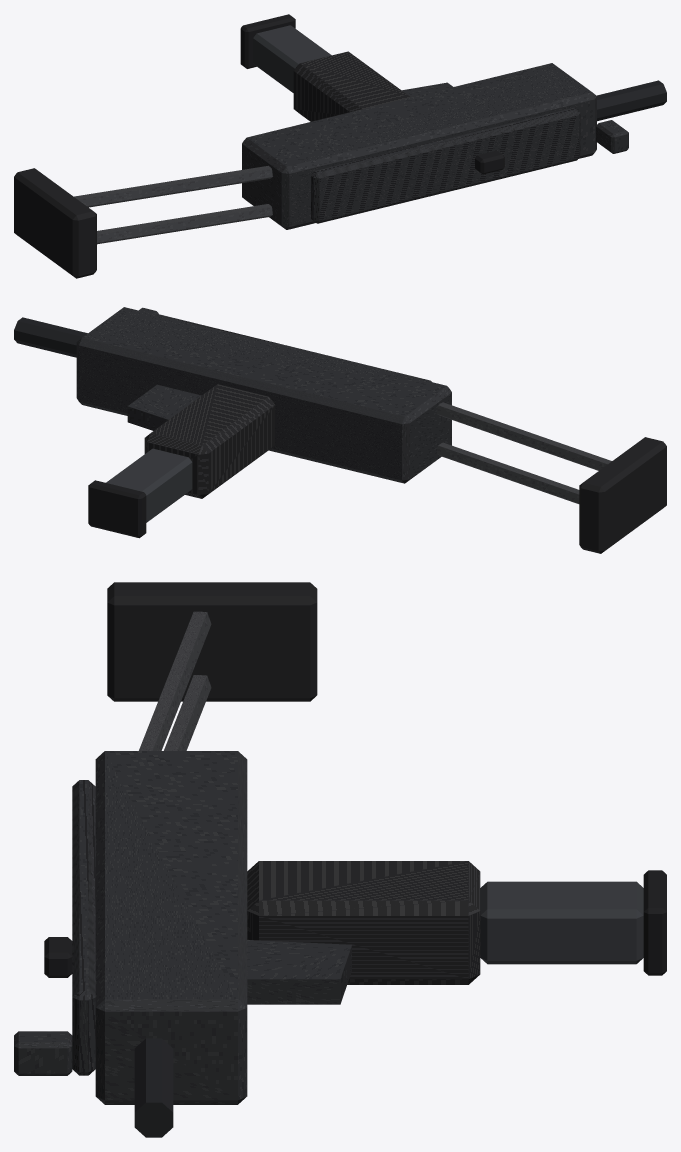
File: uzi.glb
The picture shows the model from 3 angles, top to bottom: view 1: azimuth 30°, elevation 25°; view 2: azimuth 150°, elevation 25°; view 3: azimuth 270°, elevation 25°; orthographic projection. The views are drawn at different scales.
Visible parts, largest first — view 1: block_receiver, block_topcover, block_buttplate, block_grip, block_magazine, block_strut-0.015, block_strut0.015, block_barrel, block_magbase, block_frontsight, block_cocking; view 2: block_receiver, block_grip, block_buttplate, block_magazine, block_magbase, block_strut-0.015, block_strut0.015, block_triggerguard, block_barrel, block_topcover; view 3: block_receiver, block_grip, block_buttplate, block_magazine, block_topcover, block_triggerguard, block_barrel, block_strut-0.015, block_frontsight, block_magbase, block_strut0.015, block_cocking.
Boxes of the visible parts, box(x1,y1,x2,y2) form: block_receiver: box(242, 63, 596, 229); block_topcover: box(311, 108, 580, 223); block_buttplate: box(14, 168, 96, 278); block_grip: box(293, 51, 410, 121); block_magazine: box(253, 25, 331, 92); block_strut-0.015: box(74, 165, 272, 207); block_strut0.015: box(97, 204, 272, 244); block_barrel: box(597, 80, 666, 121); block_magbase: box(240, 14, 295, 68); block_frontsight: box(596, 120, 628, 153); block_cocking: box(475, 150, 504, 174); block_receiver: box(76, 307, 451, 483); block_grip: box(144, 384, 274, 498); block_buttplate: box(579, 437, 666, 553); block_magazine: box(106, 448, 192, 522); block_magbase: box(88, 480, 146, 538); block_strut-0.015: box(436, 402, 611, 470); block_strut0.015: box(436, 442, 579, 503); block_triggerguard: box(127, 384, 201, 430); block_barrel: box(14, 317, 87, 357); block_topcover: box(156, 313, 431, 381); block_receiver: box(95, 751, 247, 1104); block_grip: box(247, 861, 480, 984); block_buttplate: box(107, 582, 317, 701); block_magazine: box(480, 881, 643, 964); block_topcover: box(72, 780, 95, 1075); block_triggerguard: box(247, 940, 351, 1004); block_barrel: box(134, 1038, 173, 1137); block_strut-0.015: box(139, 611, 211, 750); block_frontsight: box(14, 1031, 72, 1075); block_magbase: box(643, 870, 666, 975); block_strut0.015: box(164, 675, 211, 750); block_cocking: box(44, 937, 72, 977).
Size of the model in its own units: 0.495 by 0.05 by 0.28.
Materials: 1 (1 with a texture image).
